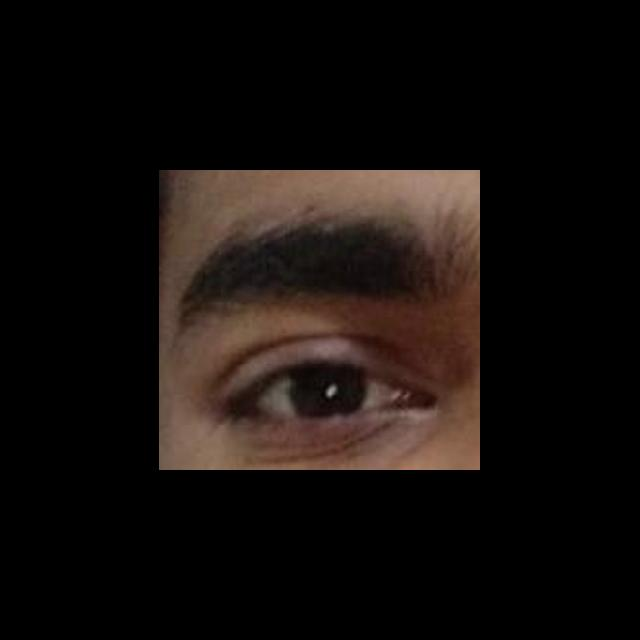eye: (256, 366, 399, 419)
iris: (292, 367, 365, 416)
